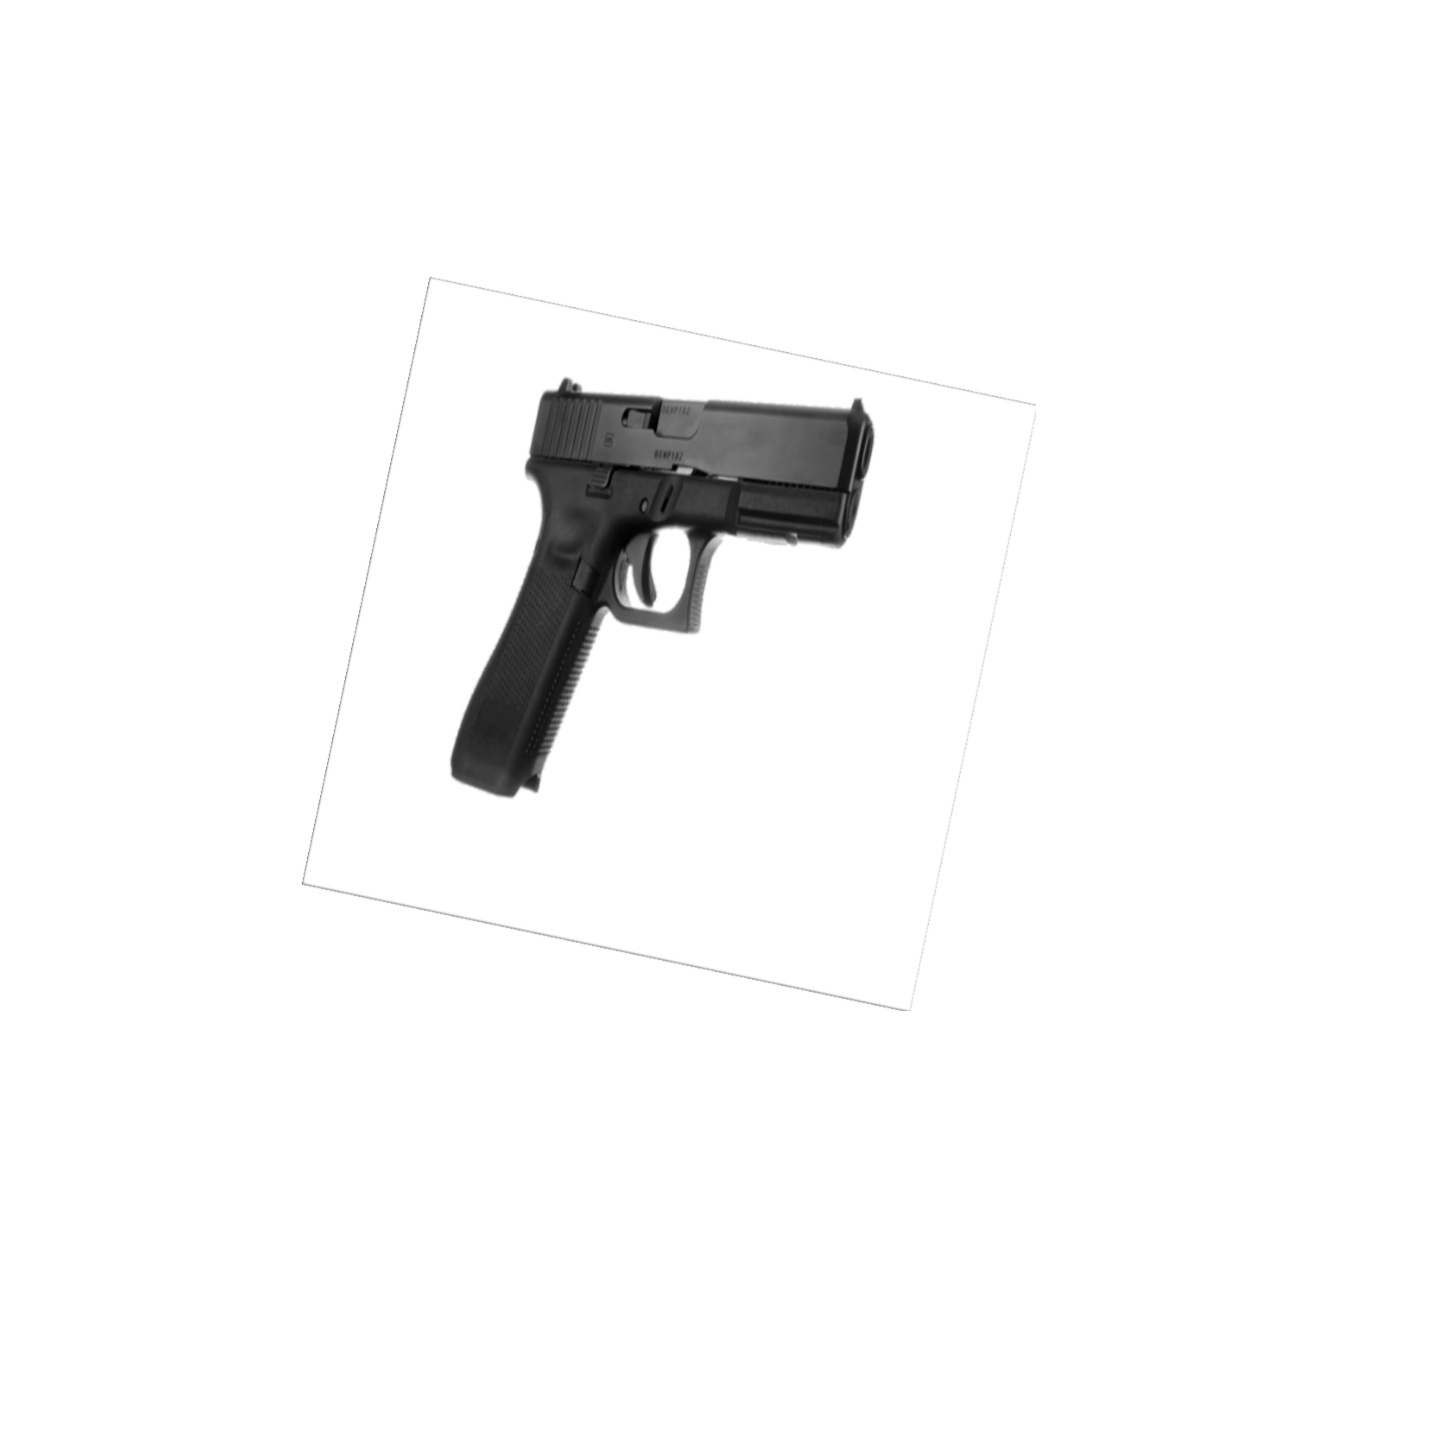gun: (439, 371, 880, 803)
